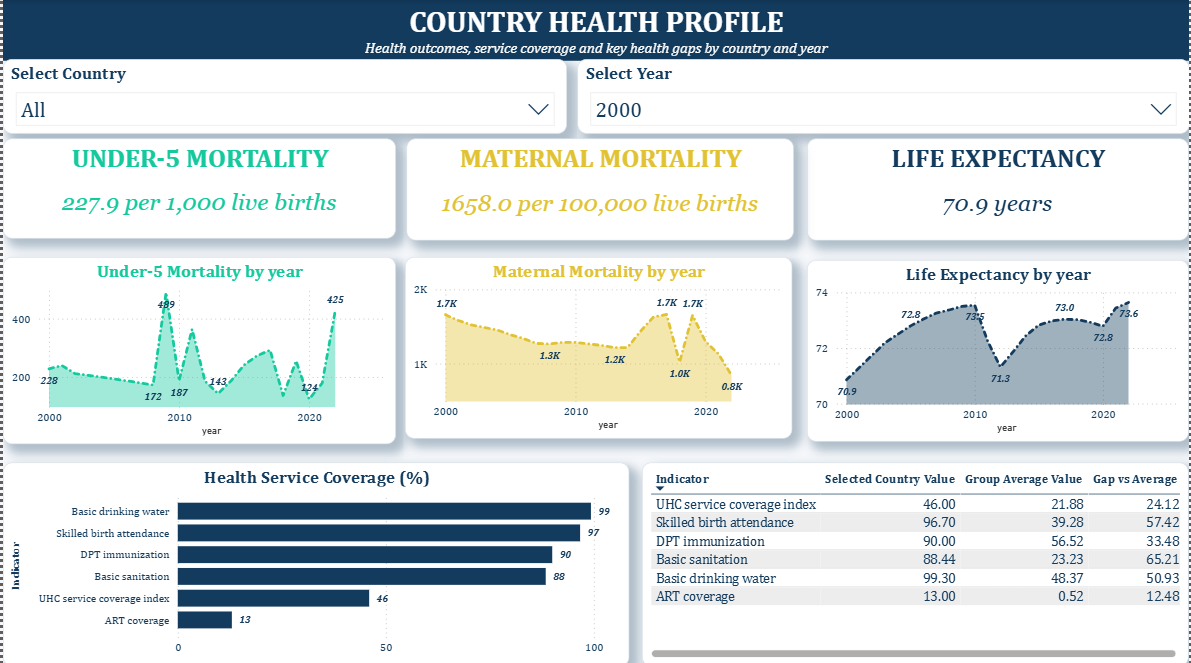

The dashboard page shown, as its layout file describes it:
{"tool":"powerbi","page":{"name":"Country Health Profile","canvas":[1280,720],"ordinal":2},"visuals":[{"type":"textbox","box":[0,0,1280.8,66.4],"z":0},{"type":"slicer","title":"Select Country","fields":{"Values":["country_policy_priorities.country_name"]},"box":[0,64,608.8,81],"z":1000},{"type":"slicer","title":"Select Year","fields":{"Values":["health_data_sql.year"]},"box":[620,64,660.6,81],"z":2000},{"type":"cardVisual","title":"LIFE EXPECTANCY","fields":{"Data":["health_data_sql.Life Expectancy Display"]},"box":[868,150,412,110],"z":3000},{"type":"cardVisual","title":"UNDER-5 MORTALITY","fields":{"Data":["health_data_sql.Under-5 Mortality Display"]},"box":[0,150,424,108],"z":4000},{"type":"cardVisual","title":"MATERNAL MORTALITY","fields":{"Data":["health_data_sql.Maternal Mortality Display"]},"box":[436,150,418,110],"z":5000},{"type":"areaChart","fields":{"Category":["health_data_sql.year"],"Y":["health_data_sql.Under-5 Mortality"]},"box":[0,278,424,202],"z":6000},{"type":"areaChart","fields":{"Category":["health_data_sql.year"],"Y":["health_data_sql.Maternal Mortality"]},"box":[434,278,418,196],"z":7000},{"type":"areaChart","fields":{"Category":["health_data_sql.year"],"Y":["health_data_sql.Life Expectancy"]},"box":[868,282,412,196],"z":8000},{"type":"clusteredBarChart","title":"Health Service Coverage (%)","fields":{"Category":["Indicators.Indicator"],"Y":["Indicators.Selected Country Value"]},"box":[0,500,676,220],"z":15000},{"type":"tableEx","fields":{"Values":["Indicators.Indicator","Indicators.Selected Country Value","Indicators.Group Average Value","Indicators.Gap vs Average"]},"box":[690,500,590,220],"z":16000}]}

Visuals, with their boxes in screenshot pixels (x1, y1, x2, y2), scaled from the page's 1280x720 canvas onto the 1191x663 screenshot:
textbox: rect(0, 0, 1190, 61)
"Select Country" slicer: rect(0, 59, 566, 134)
"Select Year" slicer: rect(577, 59, 1190, 134)
"LIFE EXPECTANCY" cardVisual: rect(808, 138, 1190, 239)
"UNDER-5 MORTALITY" cardVisual: rect(0, 138, 395, 238)
"MATERNAL MORTALITY" cardVisual: rect(406, 138, 795, 239)
areaChart - health_data_sql.year x health_data_sql.Under-5 Mortality: rect(0, 256, 395, 442)
areaChart - health_data_sql.year x health_data_sql.Maternal Mortality: rect(404, 256, 793, 436)
areaChart - health_data_sql.year x health_data_sql.Life Expectancy: rect(808, 260, 1190, 440)
"Health Service Coverage (%)" clusteredBarChart: rect(0, 460, 629, 662)
tableEx - Indicators.Indicator x Indicators.Selected Country Value: rect(642, 460, 1190, 662)
